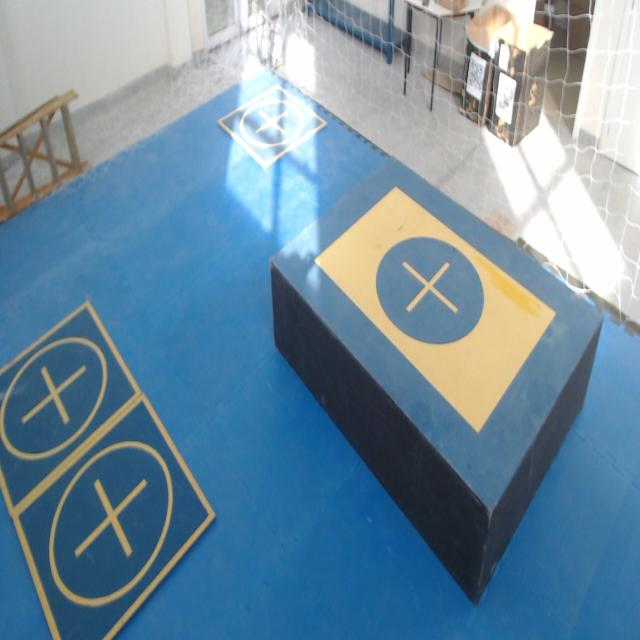base_inicio: (313, 187, 557, 434)
base_pouso: (11, 391, 216, 639), (0, 301, 143, 518), (216, 84, 329, 173)
